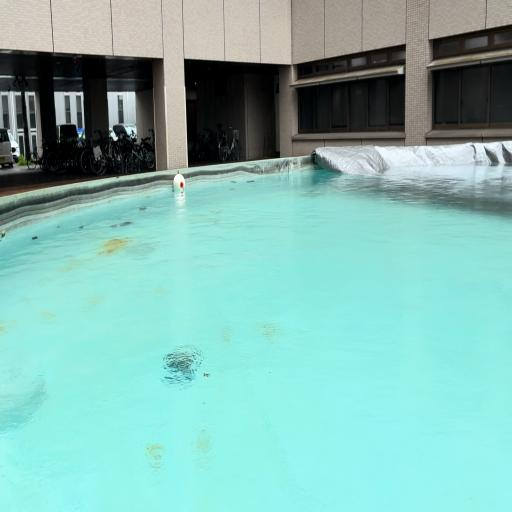white buoy: (173, 173, 186, 190)
